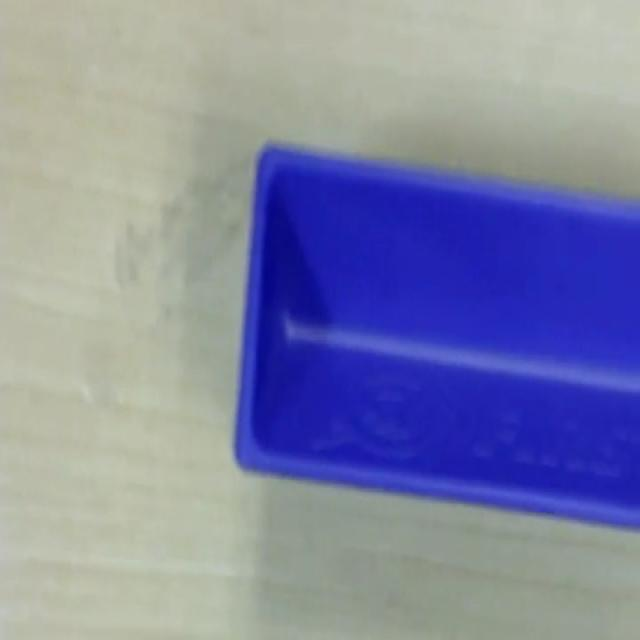blue_block: (232, 136, 638, 529)
